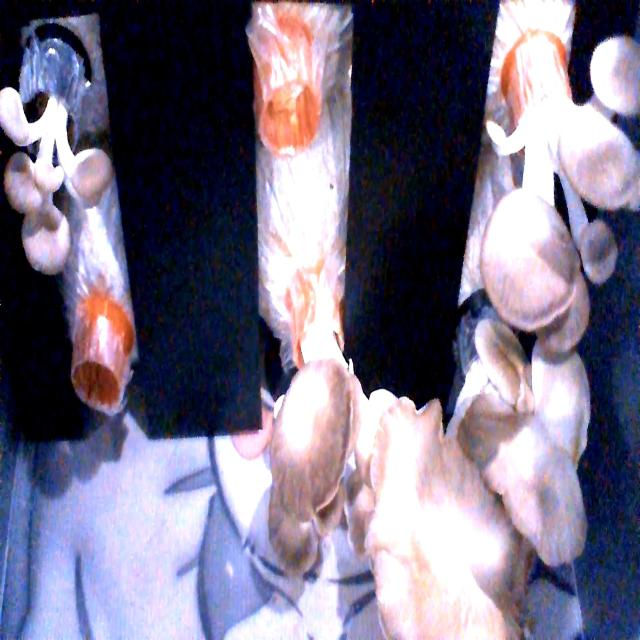big: (368, 396, 586, 638), (476, 52, 640, 339), (264, 366, 396, 573)
nfound: (256, 70, 324, 167), (70, 356, 134, 436)
small: (0, 87, 123, 283)
